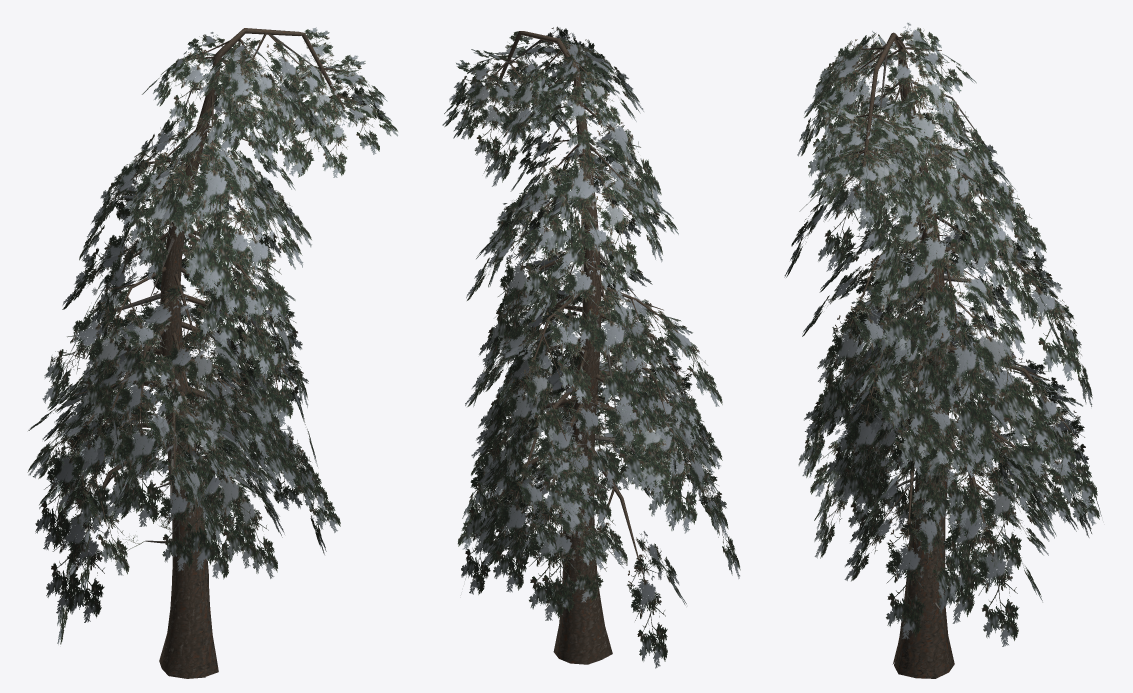
The model's file is tree_v6_pine_mangy_droop_winter.glb.
The picture shows the model from 3 angles, left to right: view 1: azimuth 30°, elevation 25°; view 2: azimuth 150°, elevation 25°; view 3: azimuth 270°, elevation 25°; orthographic projection. The views are drawn at different scales.
Parts seen in each view (by area): view 1: tree_v6_pine_mangy_droop_winter_LOD0; view 2: tree_v6_pine_mangy_droop_winter_LOD0; view 3: tree_v6_pine_mangy_droop_winter_LOD0.
Part boxes in pixels (bbox=[...]): tree_v6_pine_mangy_droop_winter_LOD0: bbox=[27, 27, 397, 678]; tree_v6_pine_mangy_droop_winter_LOD0: bbox=[442, 26, 740, 668]; tree_v6_pine_mangy_droop_winter_LOD0: bbox=[784, 22, 1101, 678].
Size of what is drawn, in the model's own units: 5.89 by 10.9 by 5.07.
Materials: 1 (1 with a texture image).
